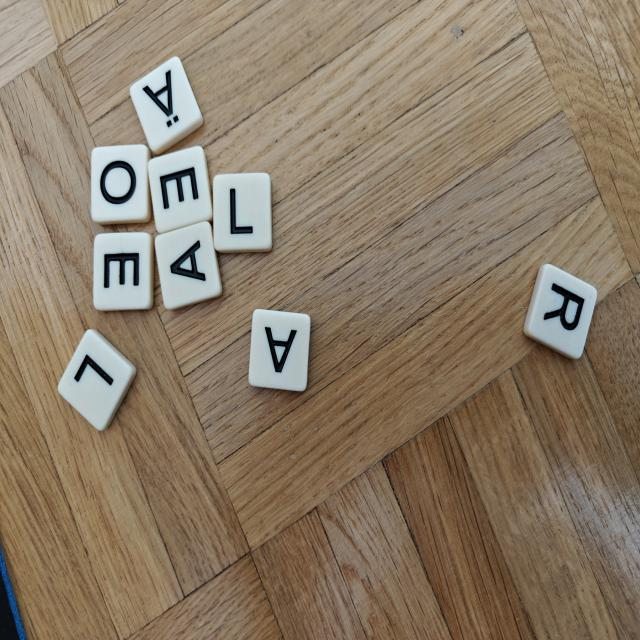a: (155, 222, 222, 309), (248, 309, 310, 391)
a_dot: (130, 56, 203, 154)
e: (148, 146, 212, 233), (93, 232, 153, 310)
l: (58, 329, 136, 430), (212, 173, 272, 253)
o: (91, 144, 152, 225)
r: (523, 264, 597, 359)
